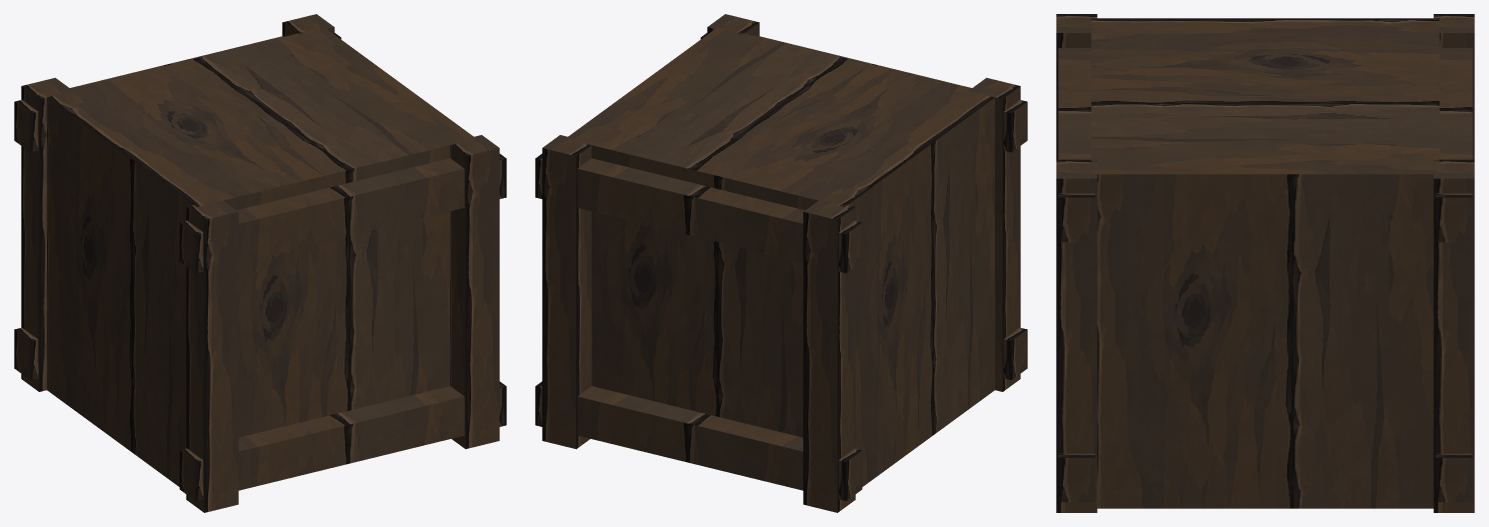
The model's file is crate.glb.
3 views of the same model, side by side, from view 1: azimuth 30°, elevation 25°; view 2: azimuth 150°, elevation 25°; view 3: azimuth 270°, elevation 25° (orthographic). The views are drawn at different scales.
Visible parts, largest first — view 1: crate; view 2: crate; view 3: crate.
Boxes of the visible parts, left/top/right/bottom form: crate: left=14, top=14, right=506, bottom=512; crate: left=535, top=14, right=1027, bottom=512; crate: left=1056, top=14, right=1474, bottom=512.
Bounding box in the file's own units: 1 × 0.9 × 1.02.
1 material, 1 textured.
